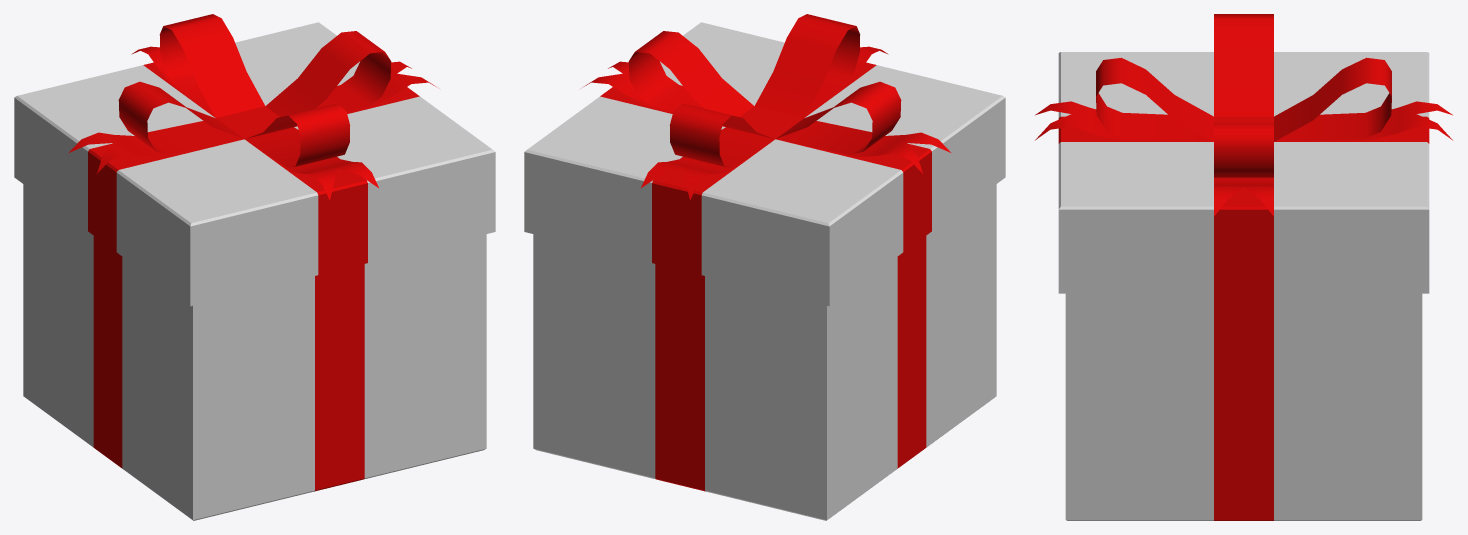
Rendered from giftbox.gltf.
3 renders of one model, left to right at view 1: azimuth 30°, elevation 25°; view 2: azimuth 150°, elevation 25°; view 3: azimuth 270°, elevation 25°, orthographic. The views are drawn at different scales.
Parts seen in each view (by area): view 1: GiftBox, GiftLid; view 2: GiftBox, GiftLid; view 3: GiftLid, GiftBox.
Boxes of the visible parts, x1,y1,x2,y2 form: GiftBox: (23,184,486,520); GiftLid: (14,14,495,306); GiftBox: (533,184,996,520); GiftLid: (524,14,1005,306); GiftLid: (1035,14,1452,293); GiftBox: (1065,293,1422,520).
Size of the model in its own units: 1.81 by 1.79 by 1.81.
